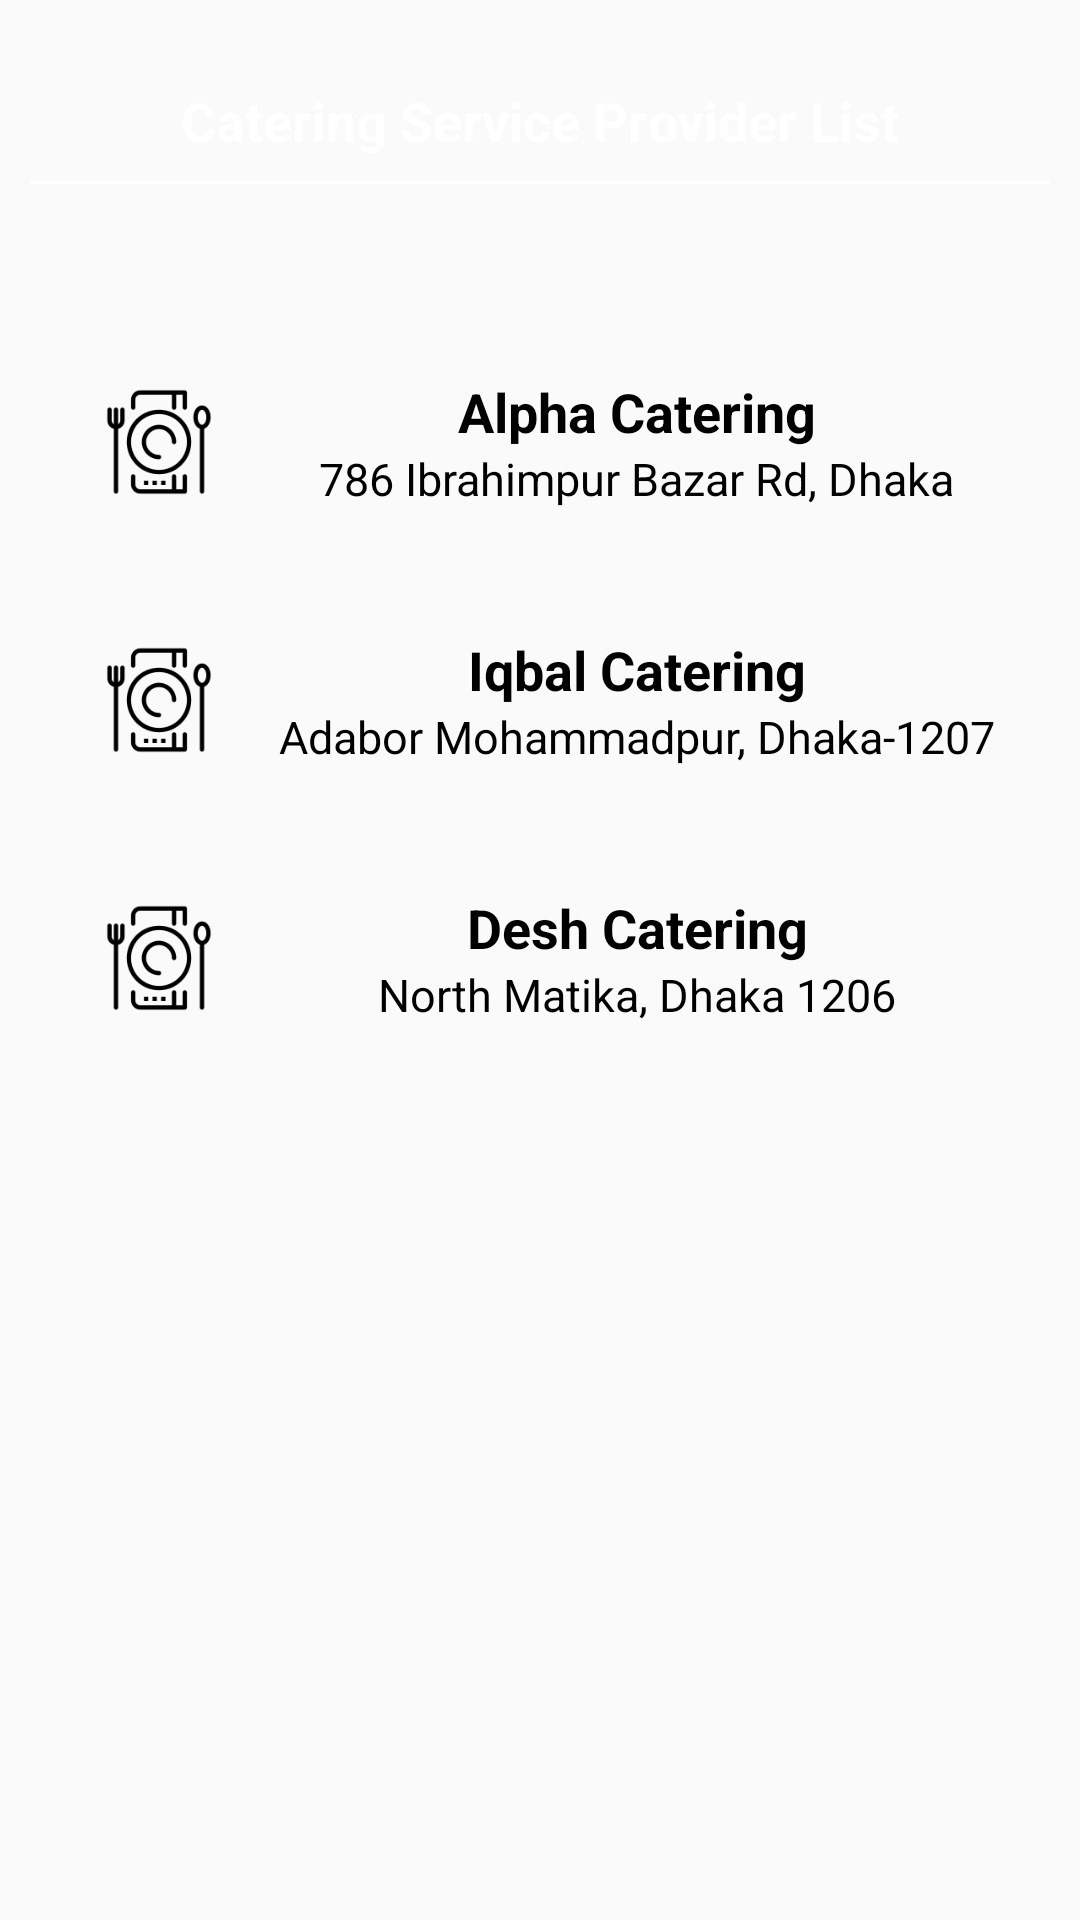

Icon bounding boxes for this 1080 × 1920 phone screenshot, format {"left": x1, "top": y1, "right": x2, "bottom": y2}:
catering: {"left": 107, "top": 390, "right": 211, "bottom": 494}, {"left": 107, "top": 648, "right": 211, "bottom": 752}, {"left": 107, "top": 906, "right": 211, "bottom": 1010}
